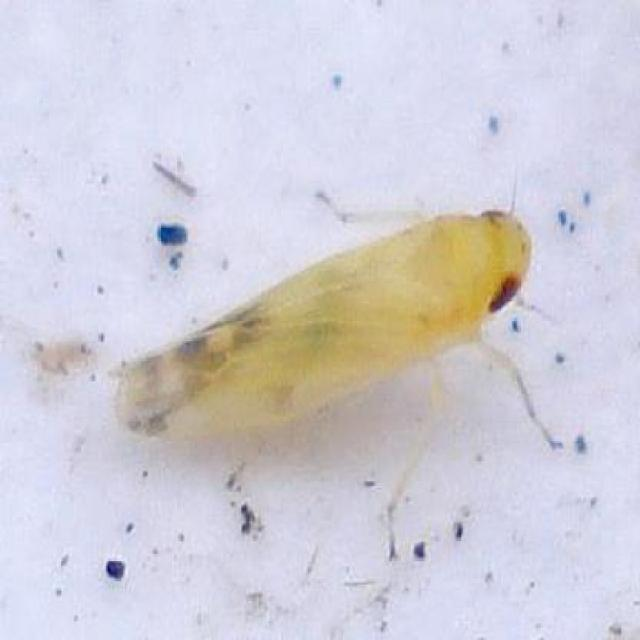green-leafhopper: (106, 189, 567, 557)
